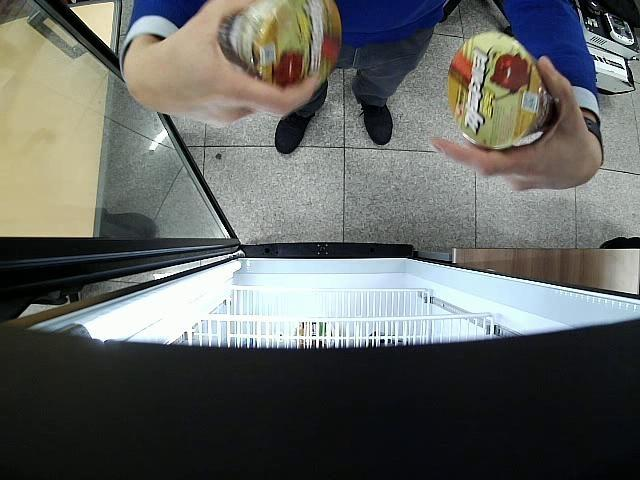04_chapagetti_S: (446, 32, 555, 150), (219, 0, 342, 88)
